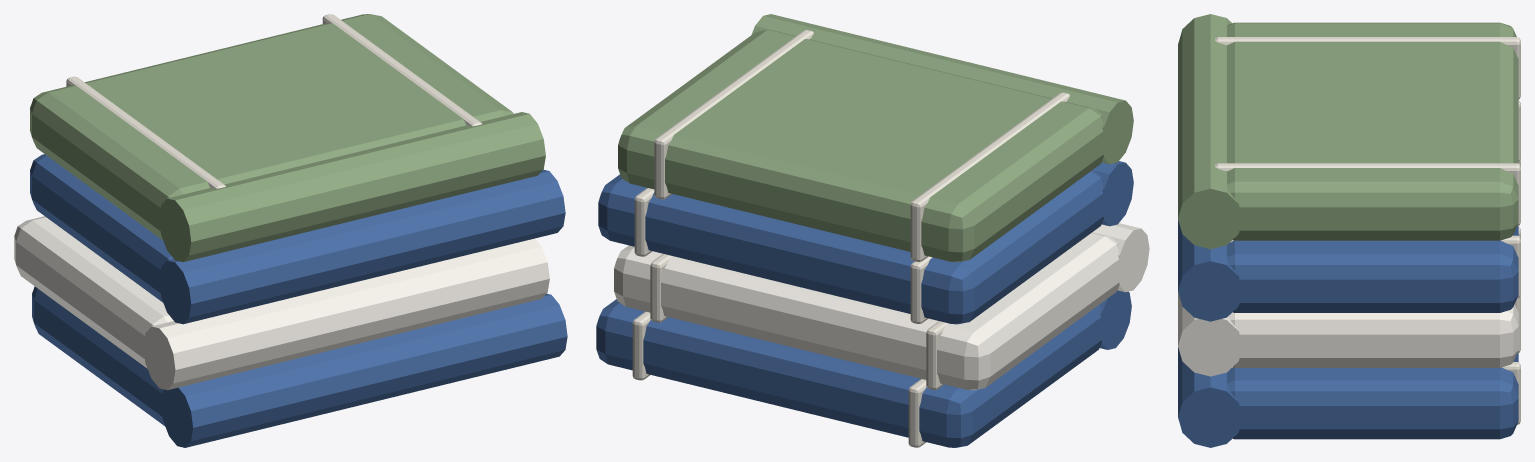
File: hh_cat_towel_pile.glb
3 views of the same model, side by side, from view 1: azimuth 30°, elevation 25°; view 2: azimuth 150°, elevation 25°; view 3: azimuth 270°, elevation 25° (orthographic).
Parts seen in each view (by area): view 1: towel.003, towel_fold.003, towel_fold.001, towel_fold.002, towel_fold, towel.001, towel.002, towel, stripe.007, stripe.006; view 2: towel.003, towel.001, towel.002, towel, towel_fold.003, stripe.006, stripe.007, towel_fold.001, towel_fold.002, towel_fold, stripe.005, stripe.001 (+4 smaller); view 3: towel.003, towel.002, towel, towel.001, towel_fold.003, towel_fold.002, towel_fold, towel_fold.001, stripe.007, stripe.006, stripe.005.
Boxes of the visible parts, box(x1,y1,x2,y2) form: towel.003: box(30, 14, 513, 240); towel_fold.003: box(159, 112, 545, 262); towel_fold.001: box(143, 238, 549, 390); towel_fold.002: box(159, 169, 565, 324); towel_fold: box(162, 293, 567, 447); towel.001: box(14, 216, 173, 368); towel.002: box(30, 154, 173, 302); towel: box(32, 286, 165, 426); stripe.007: box(322, 14, 481, 126); stripe.006: box(66, 76, 225, 188); towel.003: box(618, 29, 1103, 262); towel.001: box(614, 232, 1121, 390); towel.002: box(598, 170, 1103, 324); towel: box(596, 299, 1103, 447); towel_fold.003: box(751, 14, 1133, 164); stripe.006: box(910, 92, 1069, 261); stripe.007: box(654, 30, 813, 199); towel_fold.001: box(1092, 223, 1149, 292); towel_fold.002: box(1092, 161, 1133, 226); towel_fold: box(1100, 290, 1131, 349); stripe.005: box(634, 188, 654, 256); stripe.001: box(632, 311, 650, 380); towel.003: box(1227, 22, 1518, 240); towel.002: box(1227, 226, 1518, 312); towel: box(1227, 353, 1518, 439); towel.001: box(1228, 304, 1518, 367); towel_fold.003: box(1178, 14, 1242, 249); towel_fold.002: box(1178, 219, 1242, 321); towel_fold: box(1178, 347, 1242, 447); towel_fold.001: box(1178, 292, 1242, 376); stripe.007: box(1215, 163, 1520, 225); stripe.006: box(1215, 37, 1520, 99); stripe.005: box(1230, 235, 1520, 298).
Bounding box in the file's own units: 0.4 × 0.24 × 0.3.
